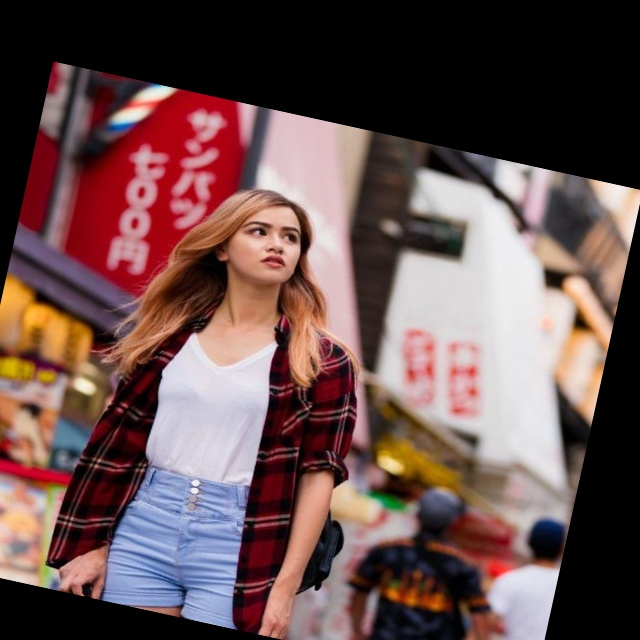Sin_Casco_Mascarrilla: (202, 179, 322, 297)
Sin_Chaleco: (114, 281, 348, 509)
